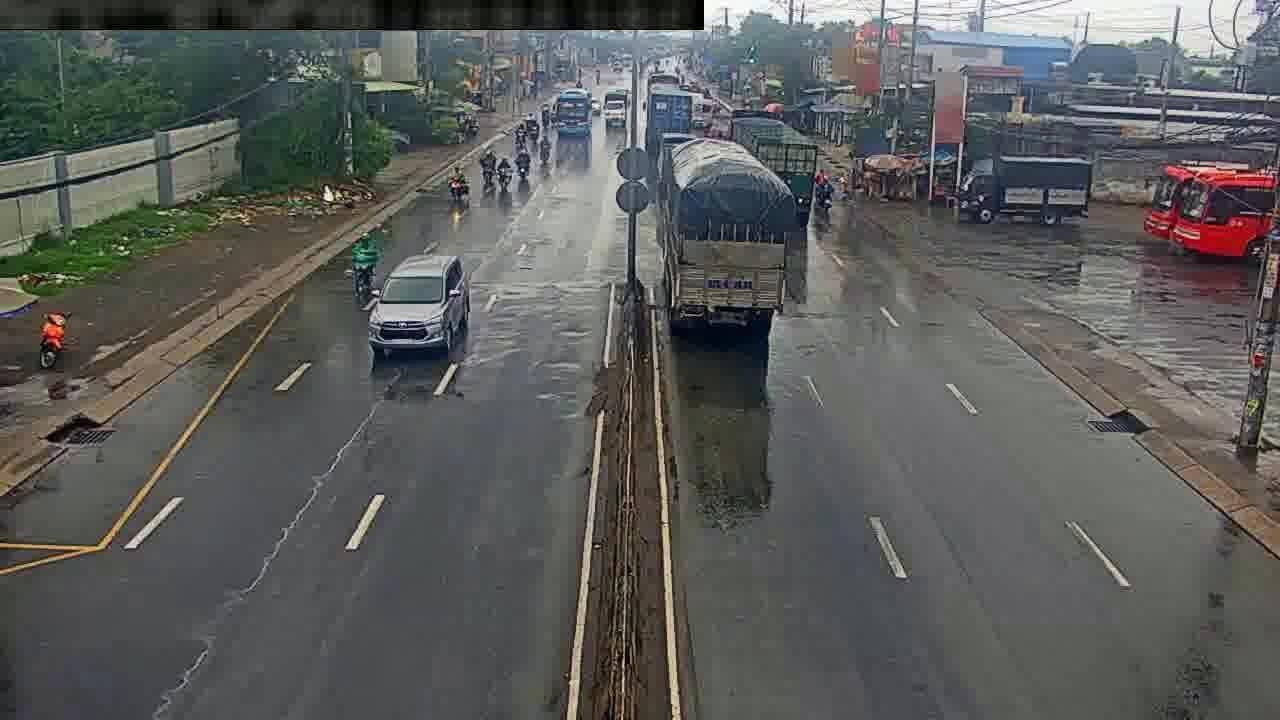14: (558, 92, 595, 137)
8: (653, 134, 780, 334), (730, 108, 816, 218)
container: (368, 254, 464, 353)
motorbike: (36, 307, 68, 378), (352, 240, 376, 304), (814, 172, 833, 214), (448, 163, 465, 205), (479, 145, 496, 186), (517, 143, 530, 175), (499, 159, 512, 191), (538, 131, 551, 160)
